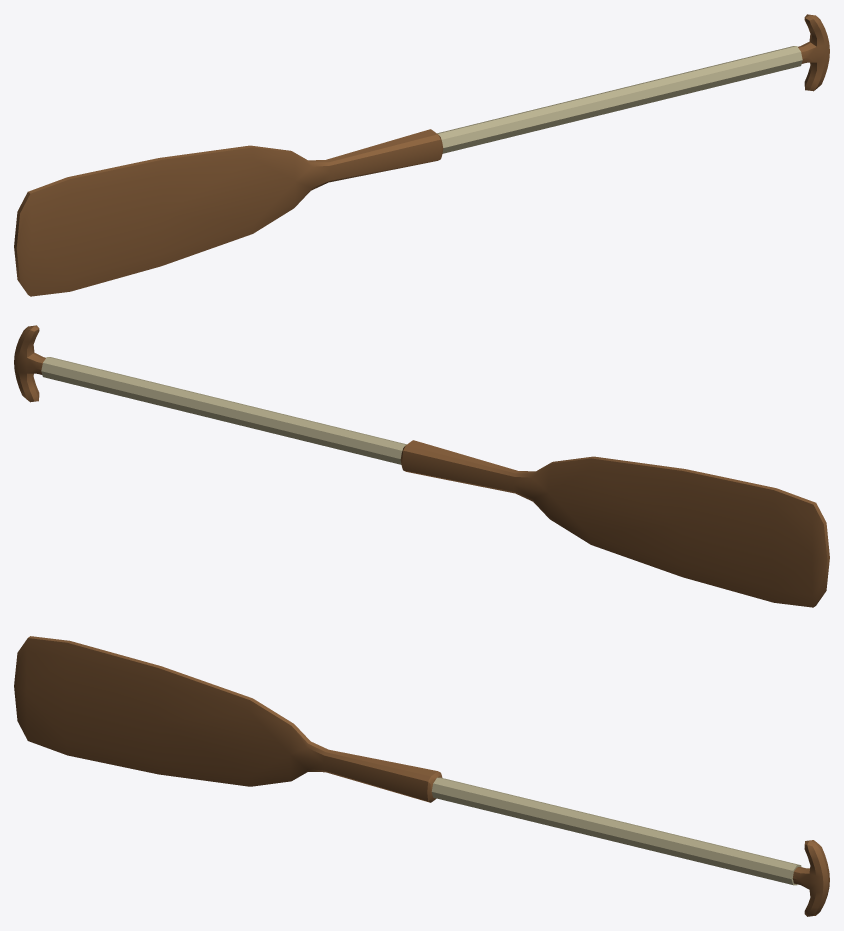
File: paddle.glb
3 renders of one model, top to bottom at view 1: azimuth 30°, elevation 25°; view 2: azimuth 150°, elevation 25°; view 3: azimuth 330°, elevation 25°, orthographic.
Parts seen in each view (by area): view 1: paddle.001; view 2: paddle.001; view 3: paddle.001.
Boxes of the visible parts, x1,y1,x2,y2 form: paddle.001: [14, 14, 829, 296]; paddle.001: [14, 325, 829, 607]; paddle.001: [14, 636, 829, 916].
Size of the model in its own units: 3.83 by 0.5072 by 0.1179.
Materials: 1 (1 with a texture image).
